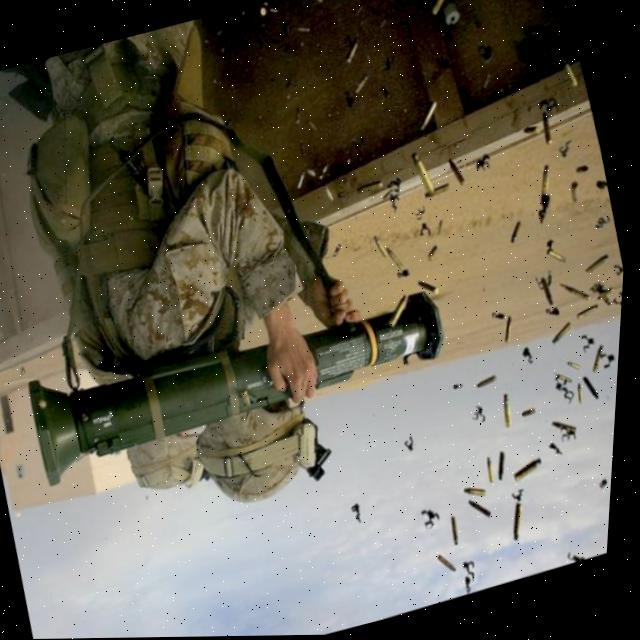rocket: (0, 261, 475, 495)
